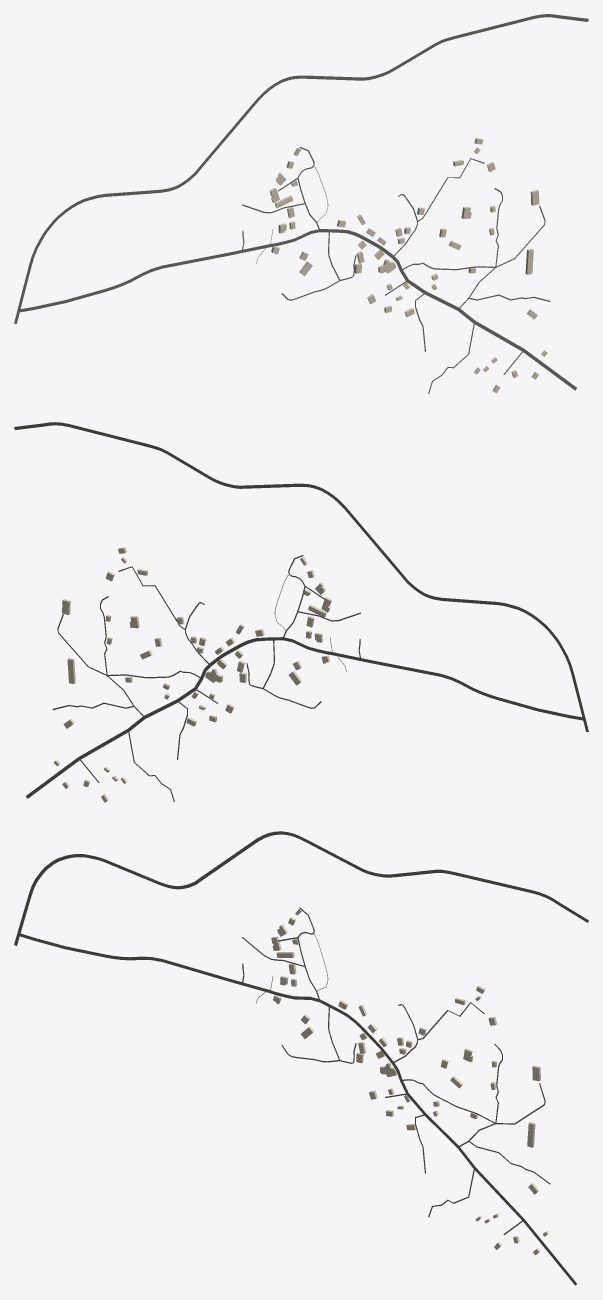
Rendered from historic-palestine-09_24_3511_3188.glb.
The picture shows the model from 3 angles, top to bottom: view 1: azimuth 30°, elevation 25°; view 2: azimuth 150°, elevation 25°; view 3: azimuth 330°, elevation 25°; orthographic projection.
Parts seen in each view (by area): view 1: Road 4437, Road .004; view 2: Road 4437, Road .004; view 3: Road 4437, Road .004.
Part boxes in pixels (left/top/right/bottom): Road 4437: left=14, top=14, right=588, bottom=323; Road .004: left=18, top=229, right=576, bottom=390; Road 4437: left=14, top=422, right=588, bottom=731; Road .004: left=26, top=637, right=584, bottom=798; Road 4437: left=14, top=831, right=588, bottom=945; Road .004: left=18, top=933, right=576, bottom=1285.
Bounding box in the file's own units: 1538 × 984 × 8.7.
